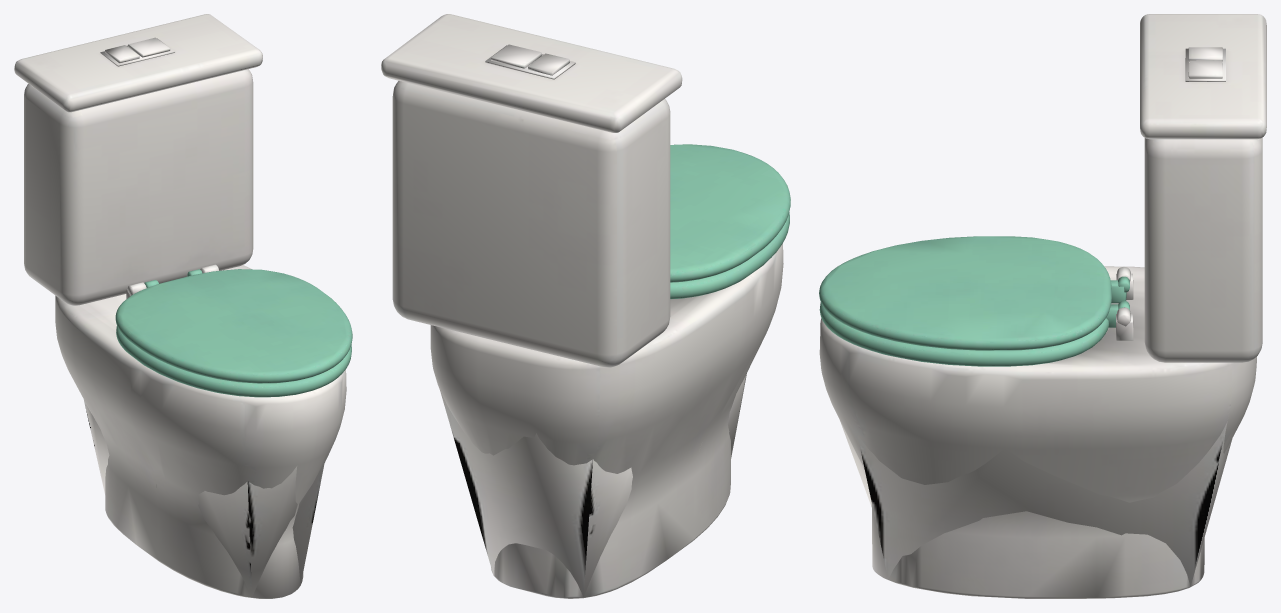
Rendered from g3d_toilet.glb.
3 views of the same model, side by side, from view 1: azimuth 30°, elevation 25°; view 2: azimuth 150°, elevation 25°; view 3: azimuth 270°, elevation 25° (orthographic). The views are drawn at different scales.
Parts seen in each view (by area): view 1: toilet_body, toilet_lid, toilet_body_lo, toilet_seat; view 2: toilet_body, toilet_body_lo, toilet_lid, toilet_seat; view 3: toilet_body, toilet_lid, toilet_body_lo, toilet_seat.
Part boxes in pixels (left/top/right/bottom): toilet_body: left=14, top=14, right=346, bottom=598; toilet_lid: left=115, top=269, right=352, bottom=383; toilet_body_lo: left=84, top=38, right=324, bottom=596; toilet_seat: left=116, top=269, right=351, bottom=397; toilet_body: left=381, top=14, right=783, bottom=598; toilet_body_lo: left=439, top=44, right=746, bottom=596; toilet_lid: left=670, top=144, right=790, bottom=282; toilet_seat: left=670, top=212, right=789, bottom=299; toilet_body: left=819, top=14, right=1266, bottom=598; toilet_lid: left=819, top=236, right=1111, bottom=350; toilet_body_lo: left=840, top=57, right=1232, bottom=586; toilet_seat: left=819, top=276, right=1129, bottom=366.
Size of the model in its own units: 0.38 by 0.8057 by 0.645.
Materials: 4 (3 with a texture image).
